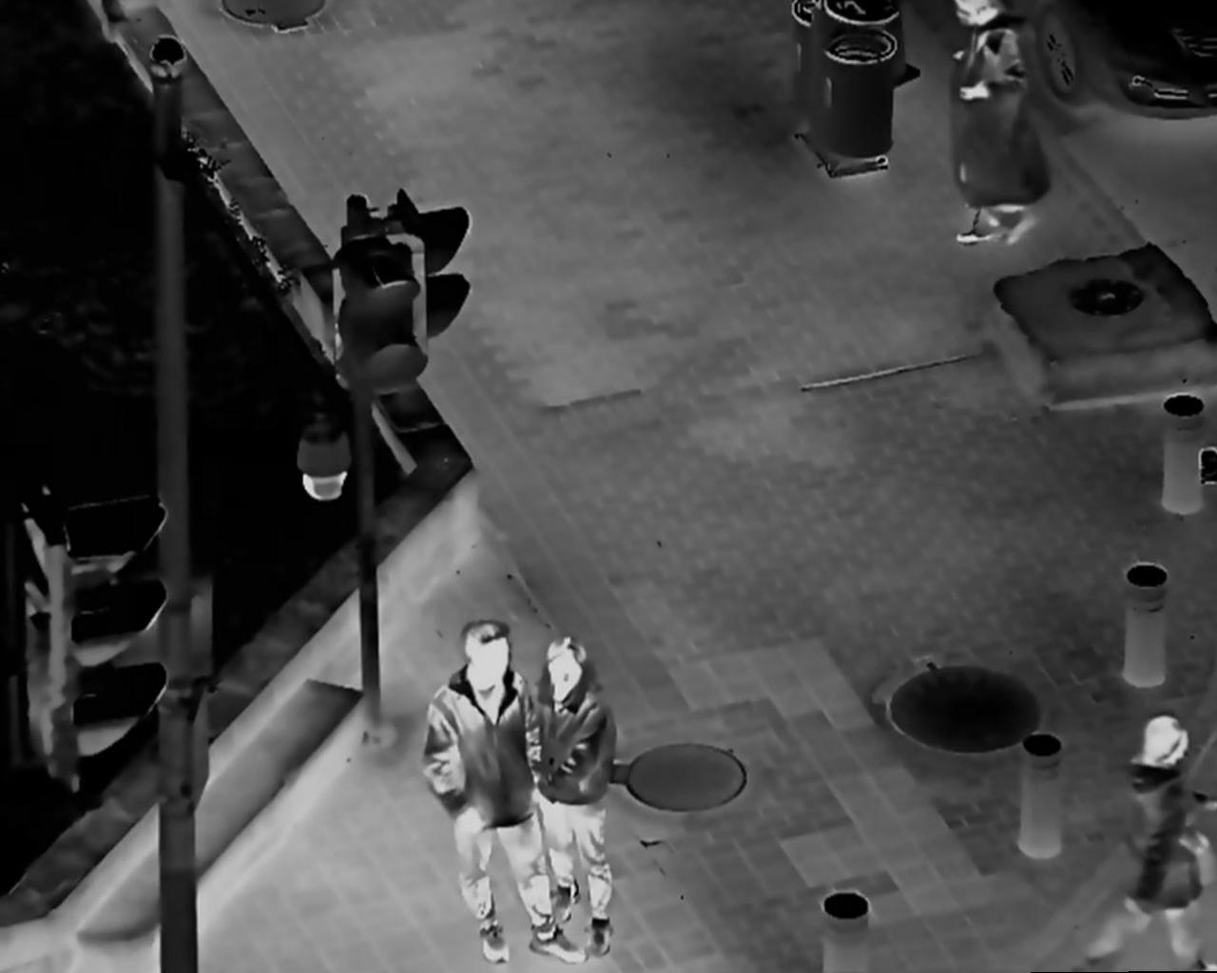person: (417, 616, 590, 963), (524, 637, 623, 960), (1103, 706, 1217, 971)
